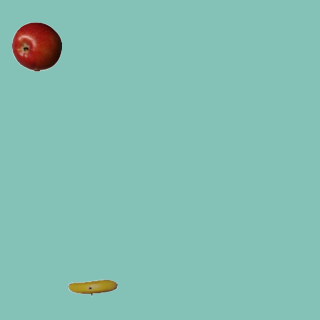Apple Braeburn: (11, 21, 61, 71)
Banana: (67, 262, 117, 312)
